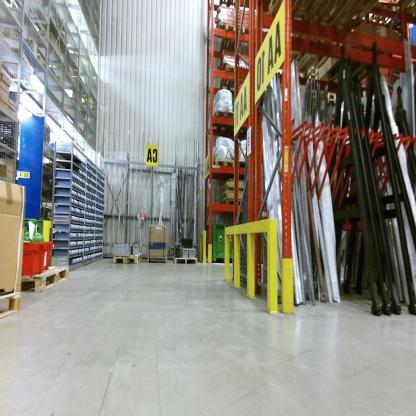pallets: (26, 264, 69, 293), (0, 289, 21, 319), (111, 254, 141, 264), (172, 256, 198, 264)
